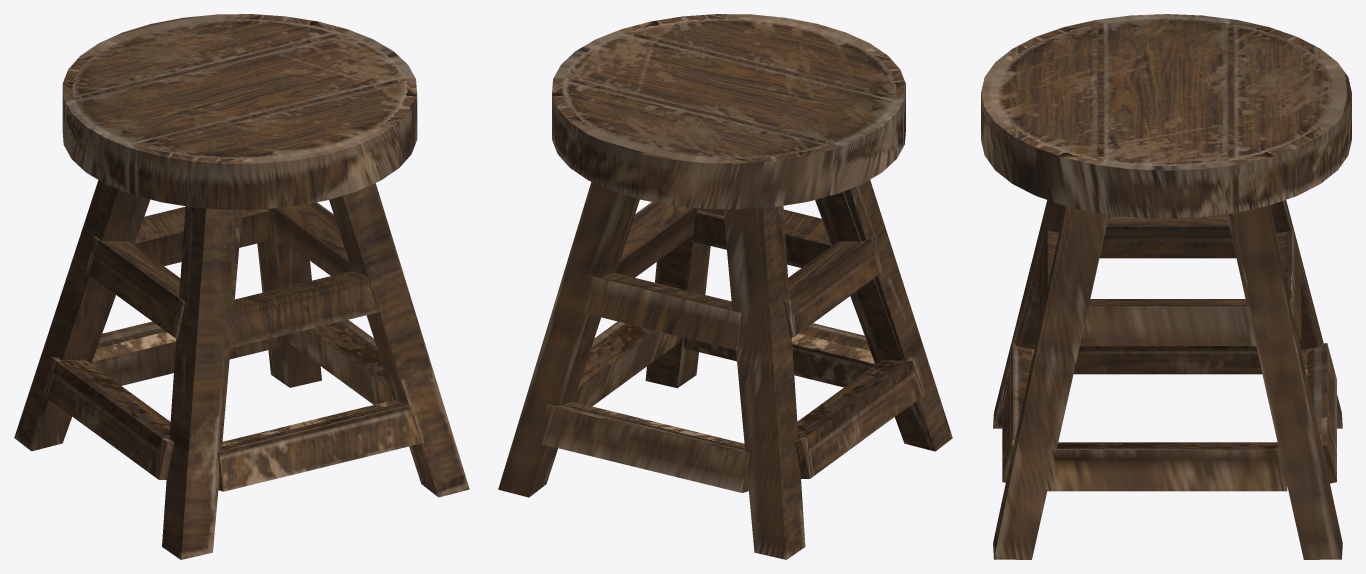
File: STOOL.fbx
3 renders of one model, left to right at view 1: azimuth 30°, elevation 25°; view 2: azimuth 150°, elevation 25°; view 3: azimuth 270°, elevation 25°, orthographic. The views are drawn at different scales.
Parts seen in each view (by area): view 1: STOOL; view 2: STOOL; view 3: STOOL.
Boxes of the visible parts, x1,y1,x2,y2 form: STOOL: (14,14,469,559); STOOL: (498,14,952,559); STOOL: (981,14,1351,559).
Bounding box in the file's own units: 147 × 172 × 147.
